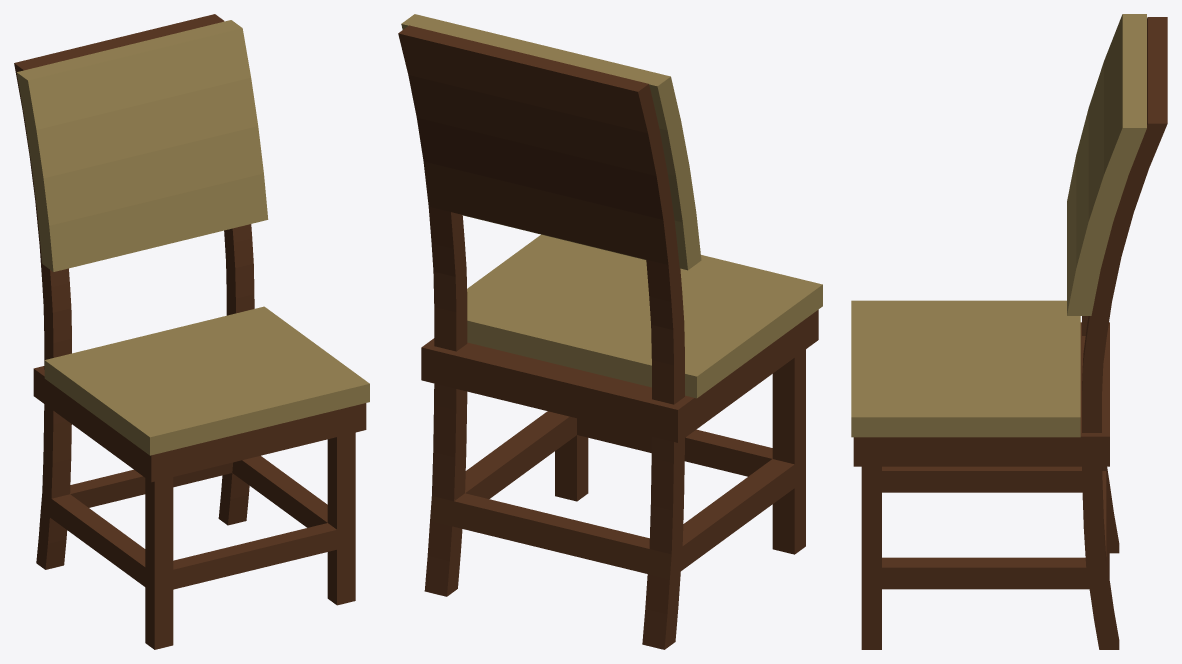
Rendered from Chair01.fbx.
3 views of the same model, side by side, from view 1: azimuth 30°, elevation 25°; view 2: azimuth 150°, elevation 25°; view 3: azimuth 270°, elevation 25° (orthographic). The views are drawn at different scales.
Parts seen in each view (by area): view 1: Cube; view 2: Cube; view 3: Cube.
Boxes of the visible parts, bbox=[...] form: Cube: bbox=[14, 14, 369, 649]; Cube: bbox=[398, 14, 822, 649]; Cube: bbox=[851, 14, 1167, 649].
Bounding box in the file's own units: 75.89 × 160 × 86.96.
